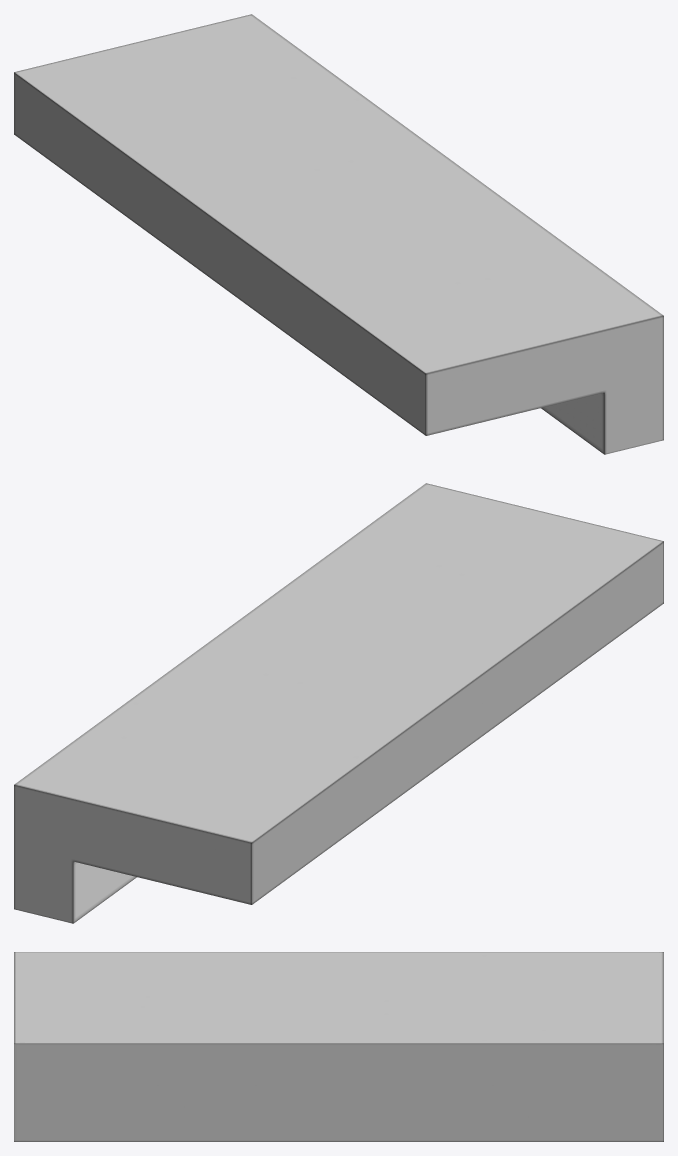
File: Wall_Top_01.FBX
3 views of the same model, one above another, from view 1: azimuth 30°, elevation 25°; view 2: azimuth 150°, elevation 25°; view 3: azimuth 270°, elevation 25° (orthographic). The views are drawn at different scales.
Visible parts, largest first — view 1: Wall_Top_01; view 2: Wall_Top_01; view 3: Wall_Top_01.
Part boxes in pixels (bbox=[...]): Wall_Top_01: bbox=[14, 14, 663, 454]; Wall_Top_01: bbox=[14, 483, 663, 923]; Wall_Top_01: bbox=[14, 952, 663, 1141].
Bounding box in the file's own units: 2 × 1 × 6.
